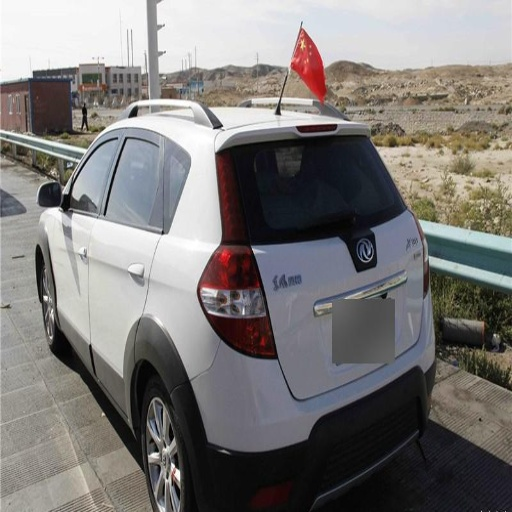back_bumper: (186, 337, 430, 509)
back_glass: (231, 136, 401, 235)
back_left_door: (91, 128, 166, 393)
tailgate: (249, 217, 419, 395)
